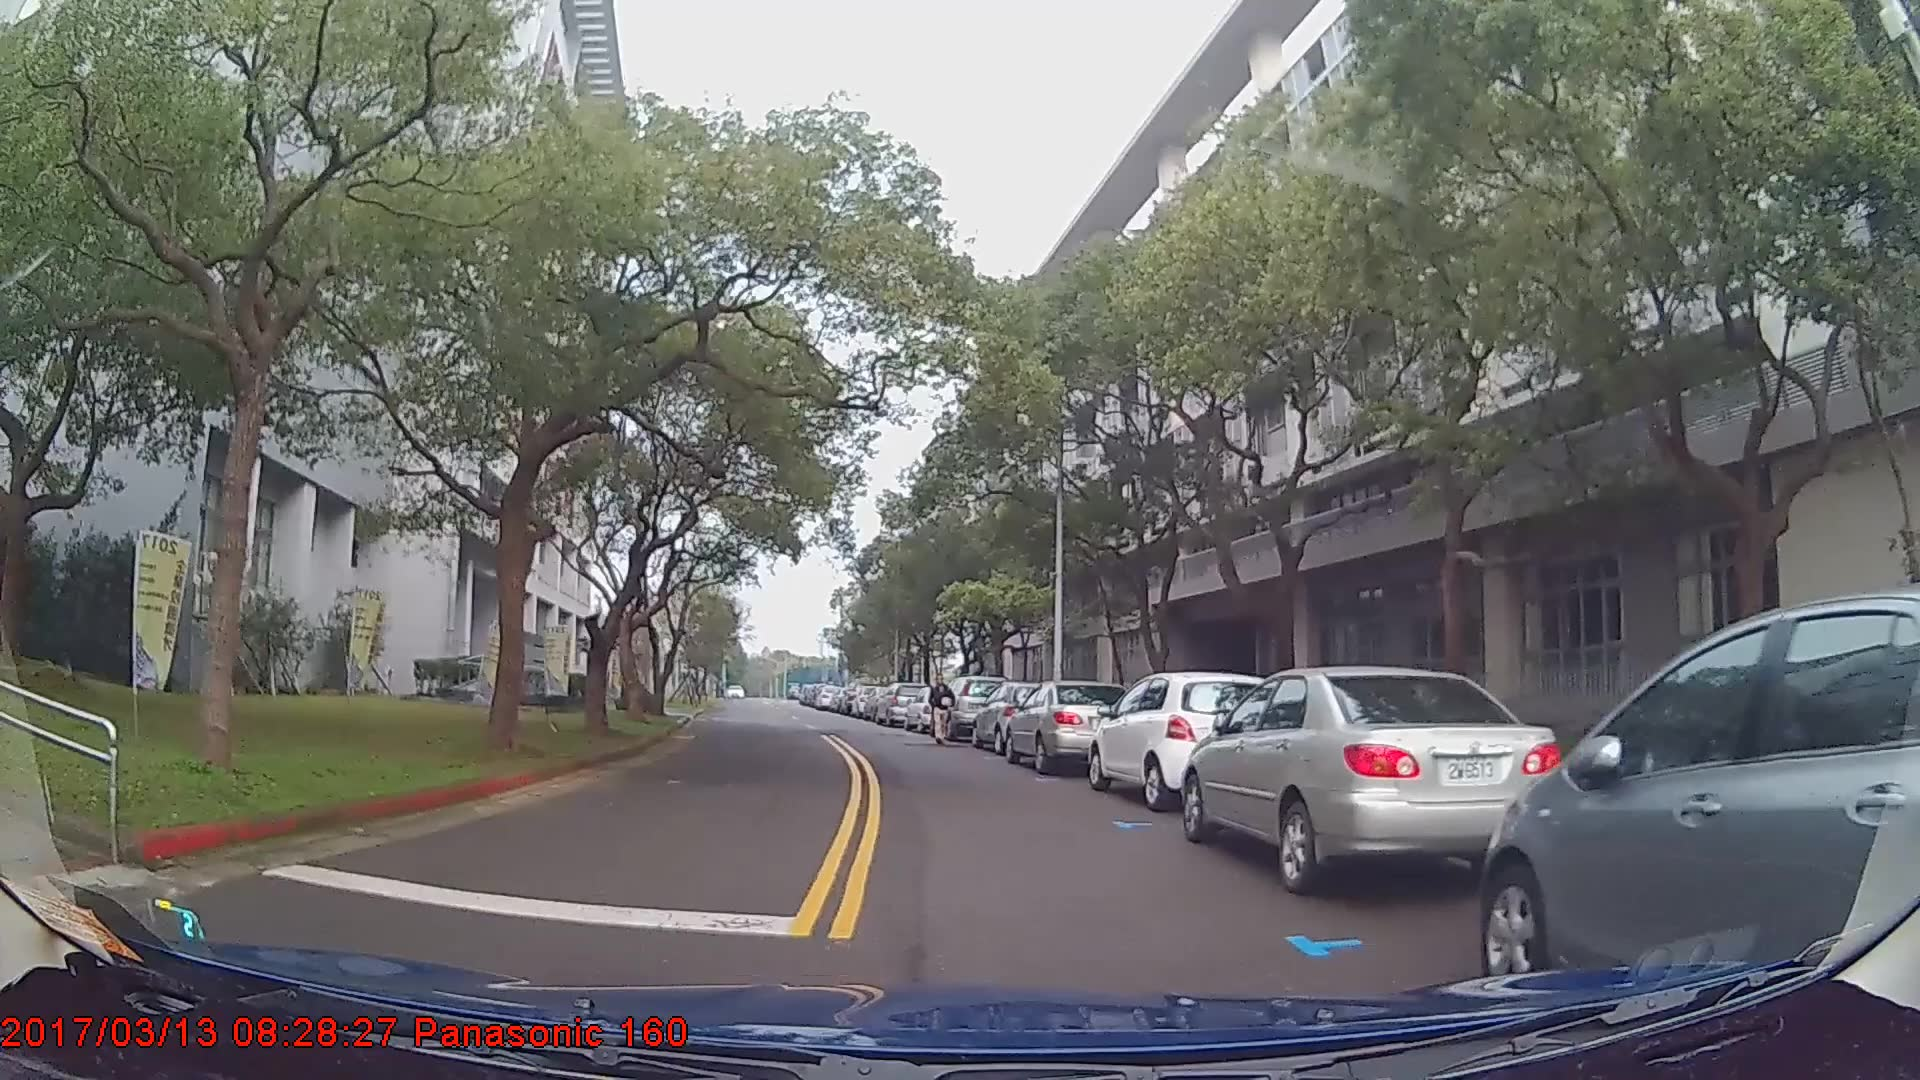pedestrian: (928, 675, 955, 749)
vehicle: (1478, 587, 1920, 1004), (1181, 662, 1563, 897), (1087, 669, 1276, 812), (1004, 681, 1131, 777), (970, 680, 1069, 757), (939, 676, 1007, 742), (869, 681, 928, 728)
